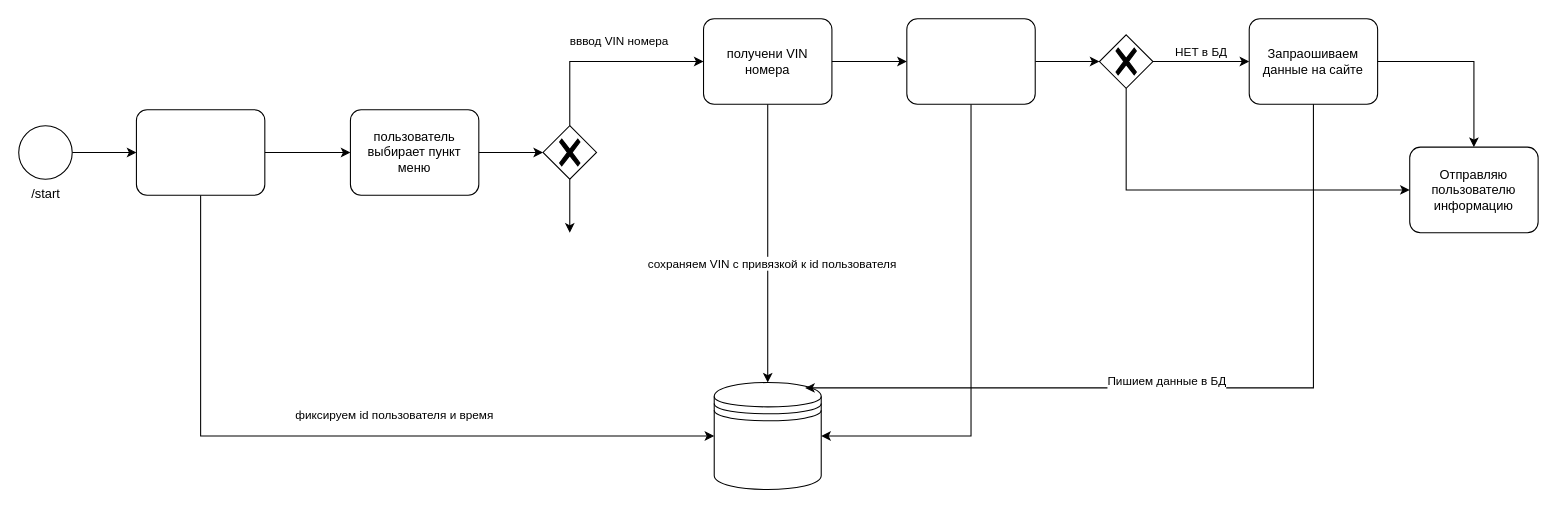
Image size: 1557x508. Some labels were removed from this diagram. The centre of each missing label's shape, as x and y in pixels:
"отправляем боту меню" belongs at point (200, 152).
"проверка наличия VIN в базе" belongs at point (970, 61).
